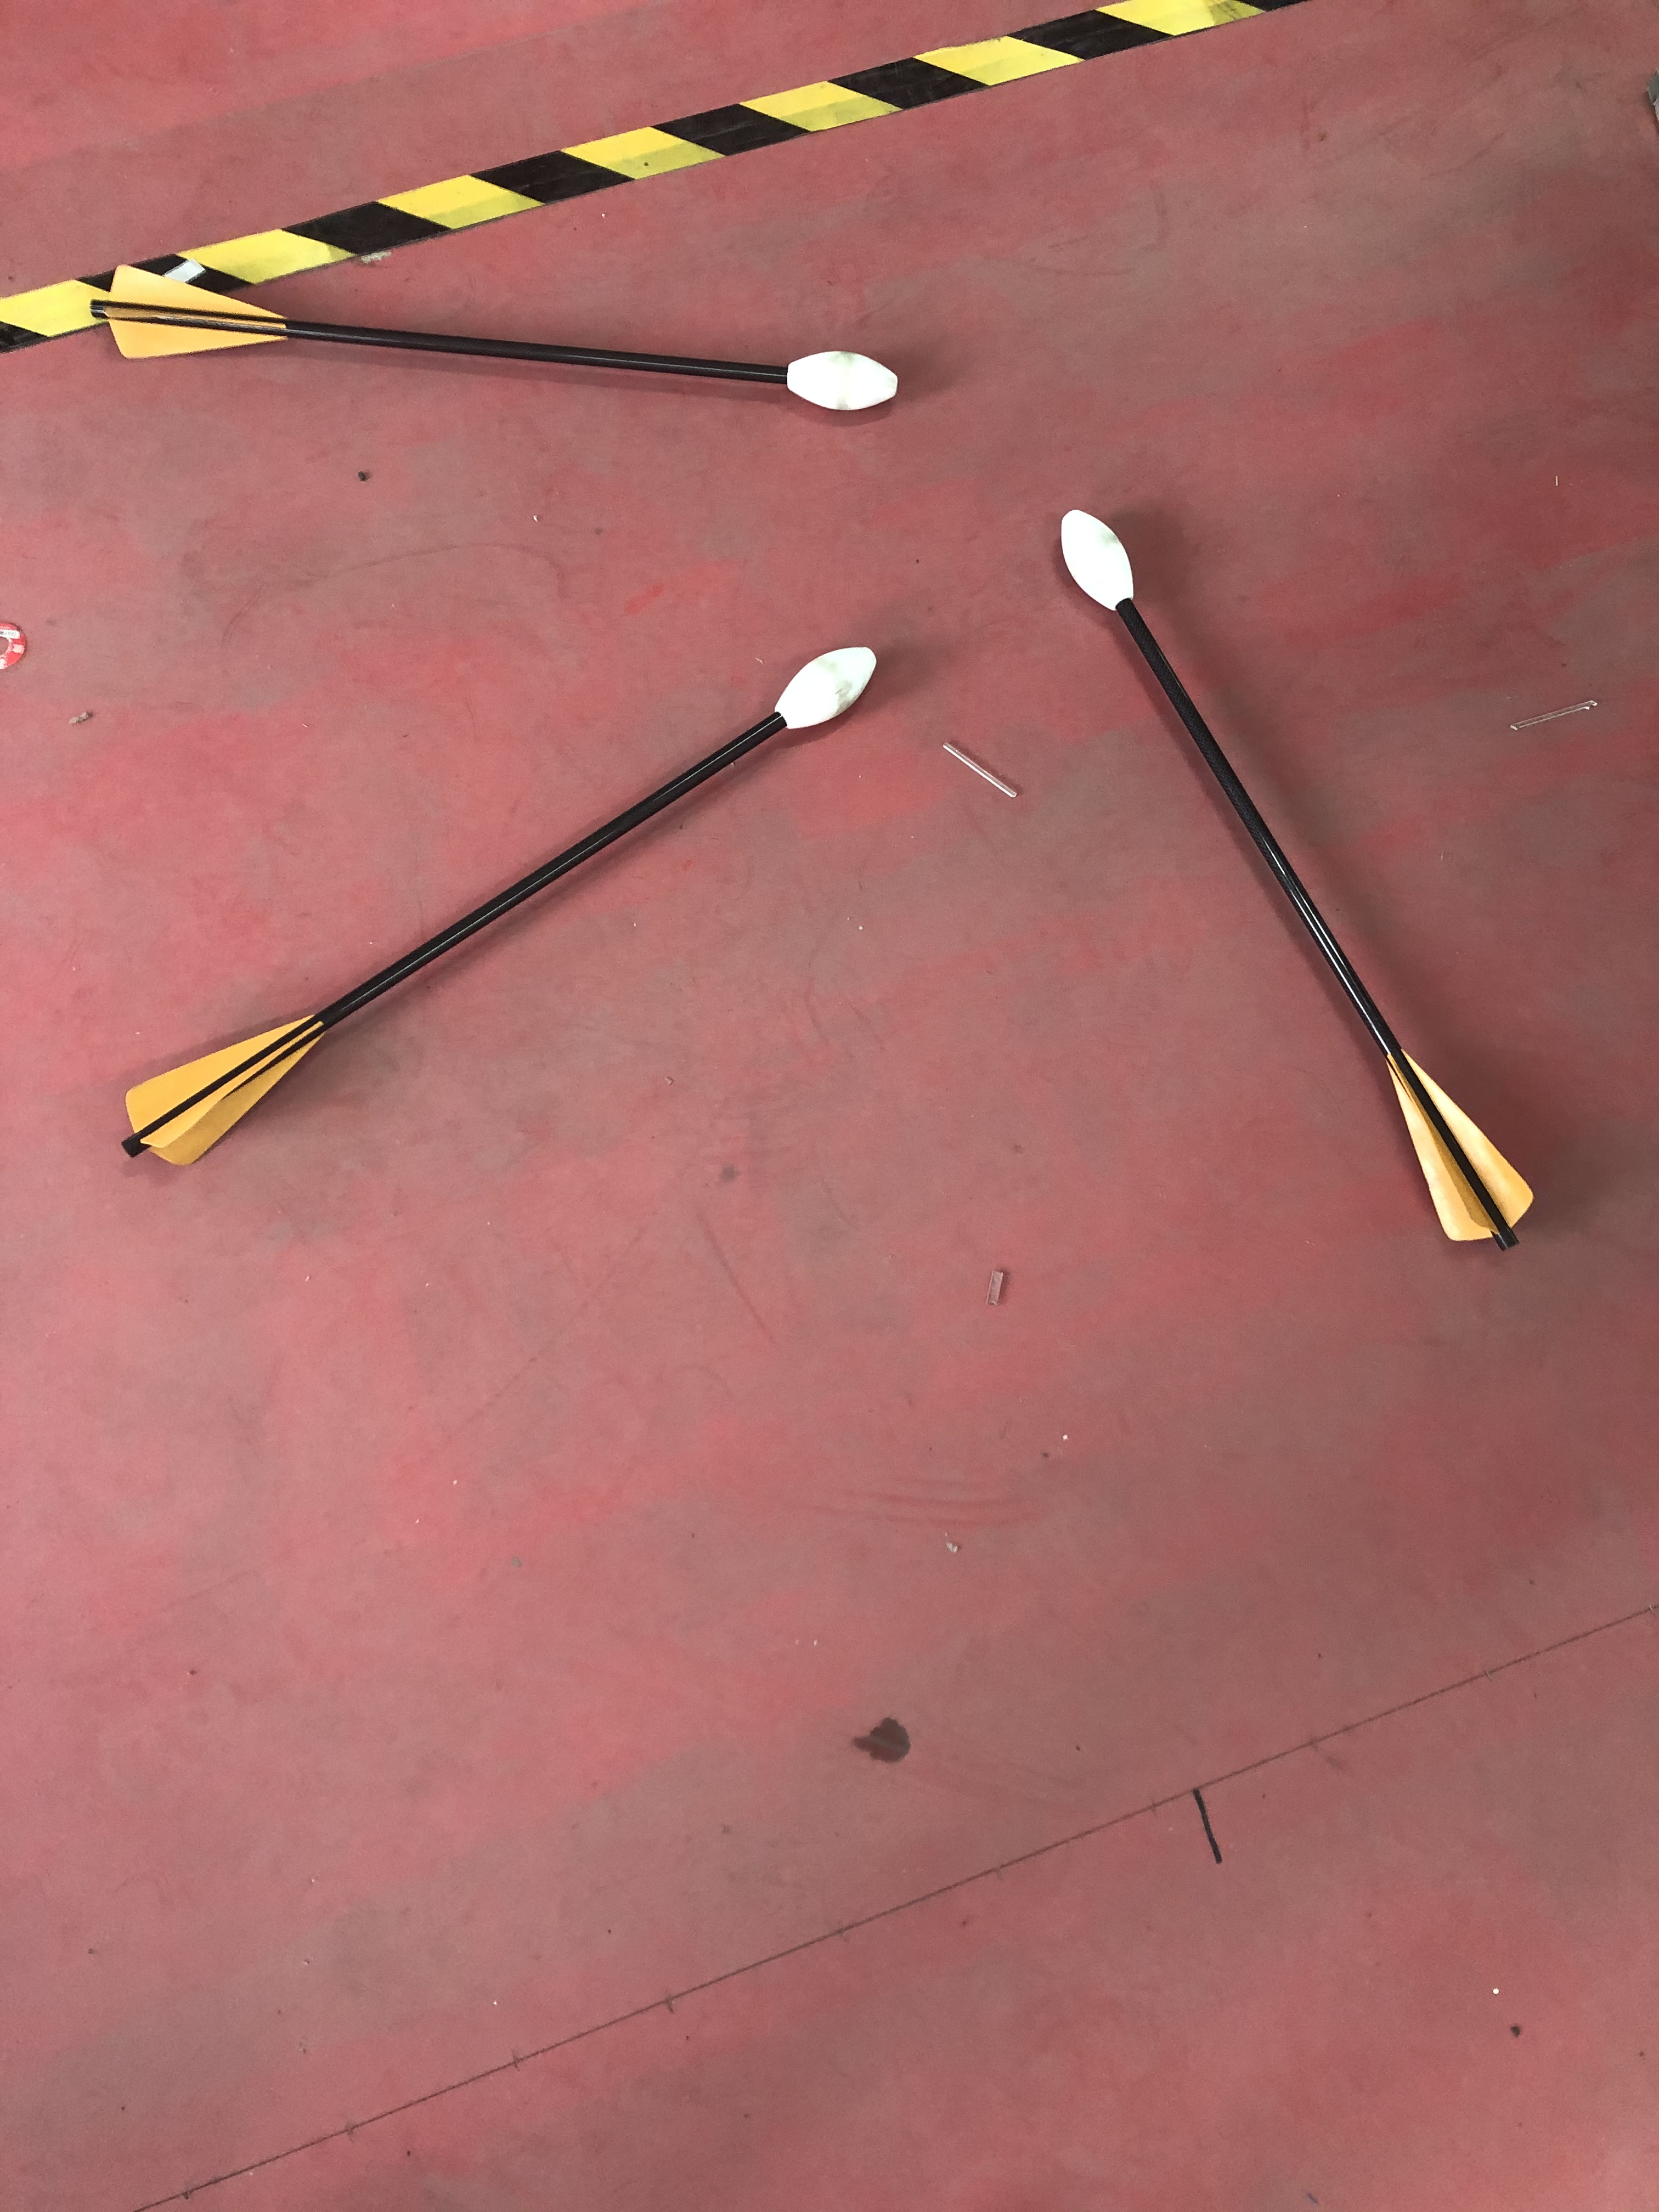arrow: (106, 632, 887, 1174), (1061, 498, 1535, 1256), (84, 230, 904, 415)
arrowFront: (770, 641, 887, 730), (1063, 496, 1136, 615), (782, 348, 903, 408)
